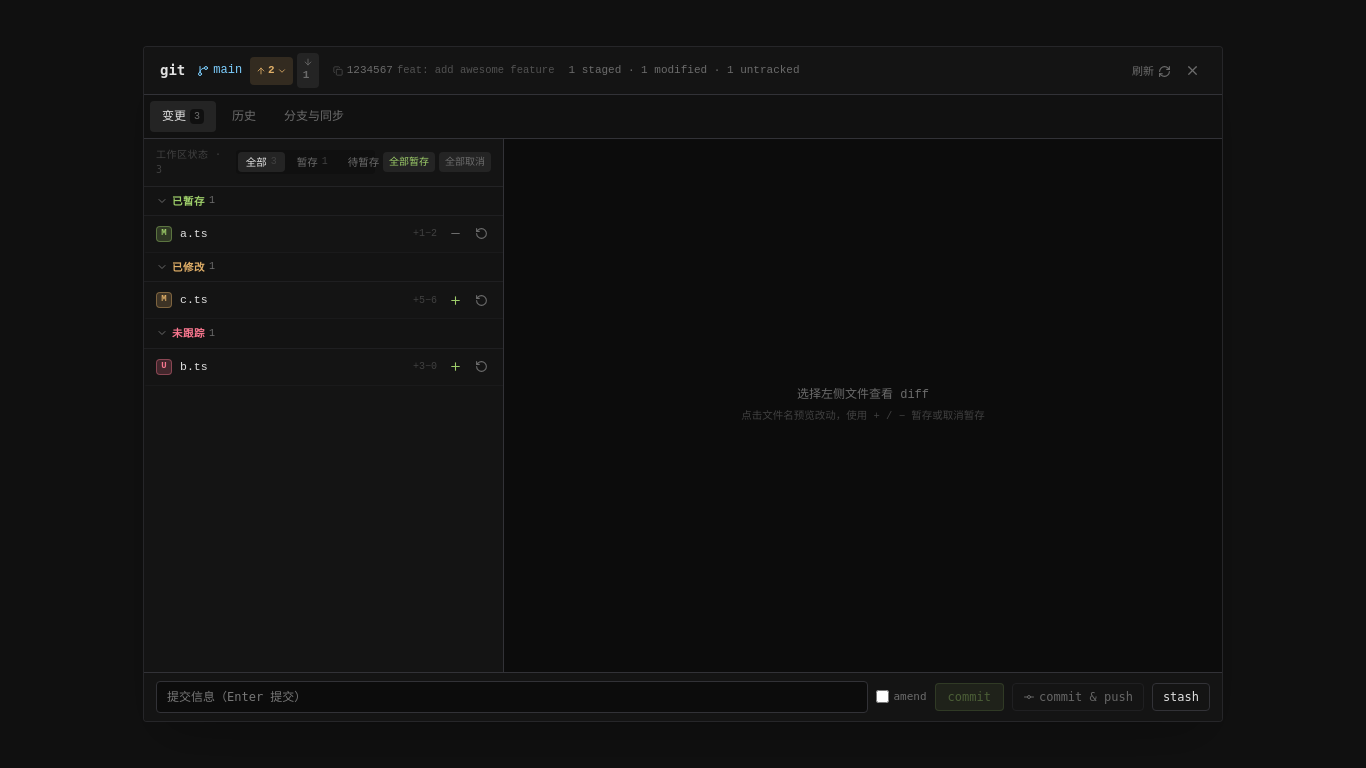
GitPanel — diff 预览 › untracked 文件 → gitFiles 工作区内容预览
This screenshot has width=1366, height=768.
Click the text "b.ts" at (194,366), box [180,360,208,373]
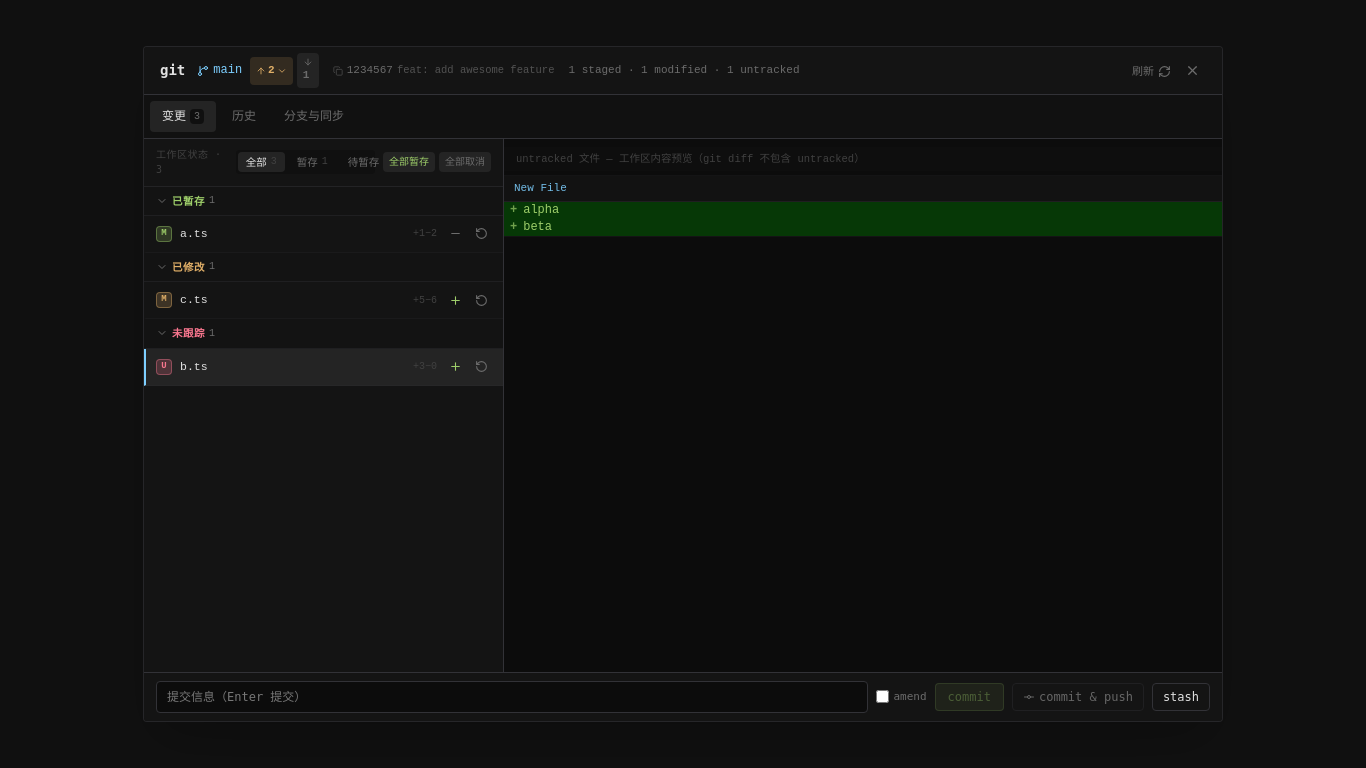
Expected: the text "alpha" is shown, [523,203,559,217]
Expected: the text "untracked 文件 — 工作区内容预览（git diff 不包含 untracked）" is shown, [504,147,1222,171]
